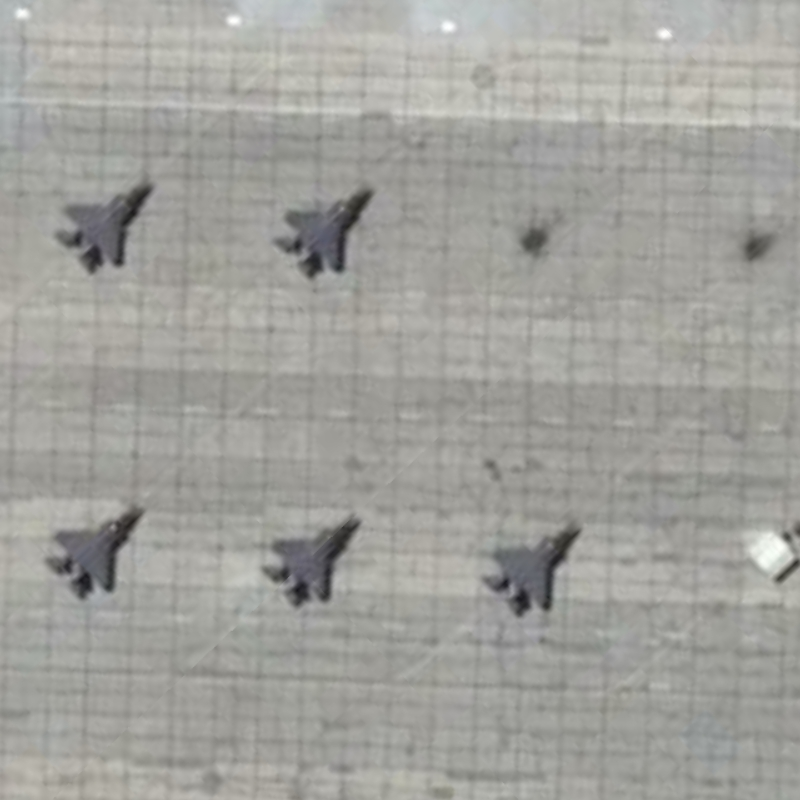A13: (45, 174, 160, 280), (262, 180, 383, 280), (475, 513, 588, 620), (39, 500, 154, 605), (257, 505, 362, 611)
